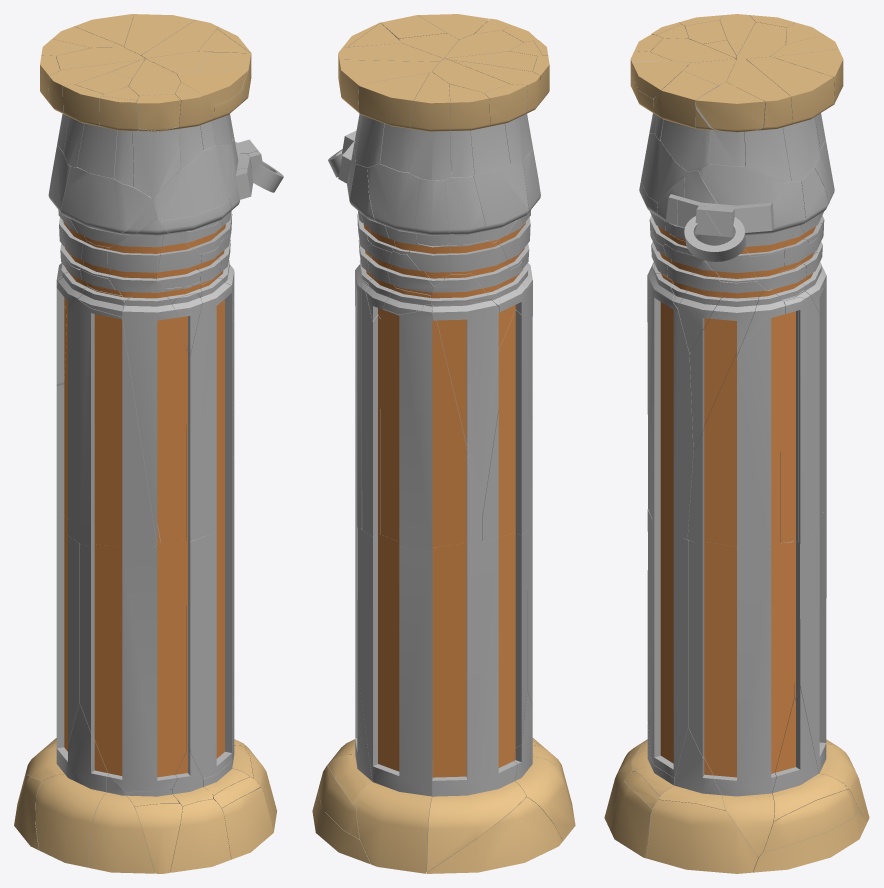
The picture shows the model from 3 angles, left to right: view 1: azimuth 30°, elevation 25°; view 2: azimuth 150°, elevation 25°; view 3: azimuth 270°, elevation 25°; orthographic projection.
Visible parts, largest first — view 1: Circle.003_cell.092, Circle.003_cell.115, Circle.003_cell.043, Circle.003_cell.016, Circle.003_cell.168, Circle.003_cell.019, Circle.003_cell.191, Circle.003_cell.109, Circle.003_cell.128, Circle.003_cell.102, Circle.003_cell.066, Circle.003_cell.009 (+44 smaller); view 2: Circle.003_cell.191, Circle.003_cell.142, Circle.003_cell.215, Circle.003_cell.115, Circle.003_cell.072, Circle.003_cell.106, Circle.003_cell.083, Circle.003_cell.090, Circle.003_cell.149, Circle.003_cell.119, Circle.003_cell.019, Circle.003_cell.046 (+34 smaller); view 3: Circle.003_cell.086, Circle.003_cell.098, Circle.003_cell.168, Circle.003_cell.016, Circle.003_cell.142, Circle.003_cell.121, Circle.003_cell.096, Circle.003_cell.119, Circle.003_cell.074, Circle.003_cell.137, Circle.003_cell.084, Circle.003_cell.083 (+41 smaller).
Part boxes in pixels (x1=…): Circle.003_cell.092: x1=79, y1=539, x2=186, y2=792; Circle.003_cell.115: x1=56, y1=300, x2=156, y2=549; Circle.003_cell.043: x1=122, y1=280, x2=186, y2=545; Circle.003_cell.016: x1=186, y1=513, x2=233, y2=778; Circle.003_cell.168: x1=186, y1=276, x2=233, y2=541; Circle.003_cell.019: x1=35, y1=703, x2=107, y2=867; Circle.003_cell.191: x1=25, y1=514, x2=79, y2=781; Circle.003_cell.109: x1=88, y1=775, x2=154, y2=873; Circle.003_cell.128: x1=152, y1=144, x2=234, y2=220; Circle.003_cell.102: x1=61, y1=167, x2=152, y2=232; Circle.003_cell.066: x1=170, y1=799, x2=231, y2=872; Circle.003_cell.009: x1=108, y1=218, x2=165, y2=301; Circle.003_cell.191: x1=427, y1=531, x2=527, y2=871; Circle.003_cell.142: x1=356, y1=527, x2=432, y2=873; Circle.003_cell.215: x1=380, y1=304, x2=482, y2=550; Circle.003_cell.115: x1=483, y1=283, x2=532, y2=541; Circle.003_cell.072: x1=432, y1=299, x2=499, y2=513; Circle.003_cell.106: x1=426, y1=797, x2=562, y2=873; Circle.003_cell.083: x1=360, y1=274, x2=380, y2=535; Circle.003_cell.090: x1=358, y1=72, x2=429, y2=172; Circle.003_cell.149: x1=408, y1=72, x2=450, y2=180; Circle.003_cell.119: x1=339, y1=59, x2=438, y2=167; Circle.003_cell.019: x1=513, y1=691, x2=575, y2=840; Circle.003_cell.046: x1=474, y1=164, x2=528, y2=242; Circle.003_cell.086: x1=688, y1=540, x2=794, y2=856; Circle.003_cell.098: x1=687, y1=290, x2=785, y2=549; Circle.003_cell.168: x1=647, y1=273, x2=693, y2=539; Circle.003_cell.016: x1=647, y1=510, x2=687, y2=777; Circle.003_cell.142: x1=800, y1=512, x2=869, y2=820; Circle.003_cell.121: x1=646, y1=800, x2=757, y2=873; Circle.003_cell.096: x1=689, y1=298, x2=758, y2=450; Circle.003_cell.119: x1=747, y1=57, x2=834, y2=181; Circle.003_cell.074: x1=772, y1=686, x2=848, y2=821; Circle.003_cell.137: x1=698, y1=164, x2=783, y2=237; Circle.003_cell.084: x1=780, y1=310, x2=797, y2=542; Circle.003_cell.083: x1=783, y1=290, x2=819, y2=538.
Bounding box in the file's own units: 174 × 535 × 170.
